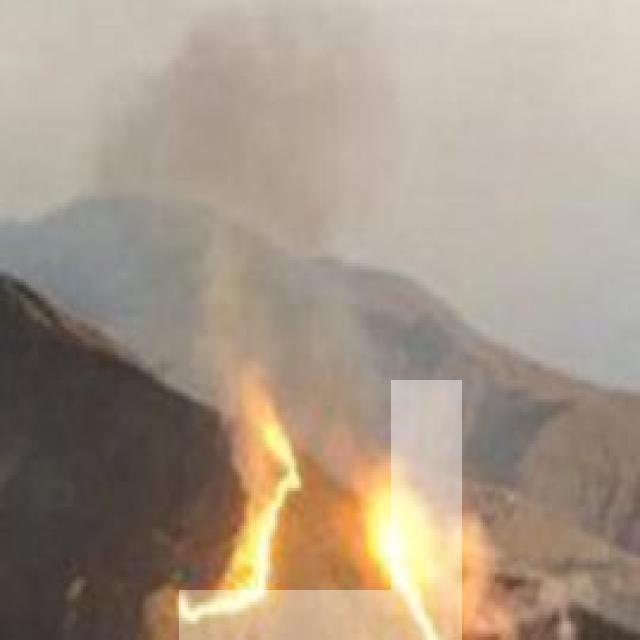Fire: (179, 380, 462, 640)
Smoke: (166, 0, 392, 590)
